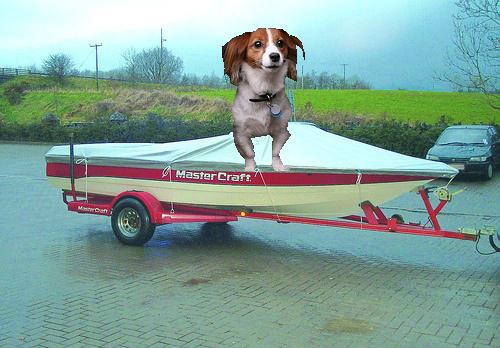tampered: (223, 29, 305, 171)
